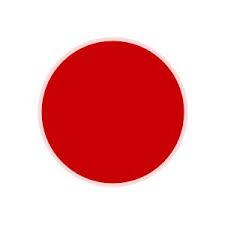red_circle: (38, 38, 191, 188)
